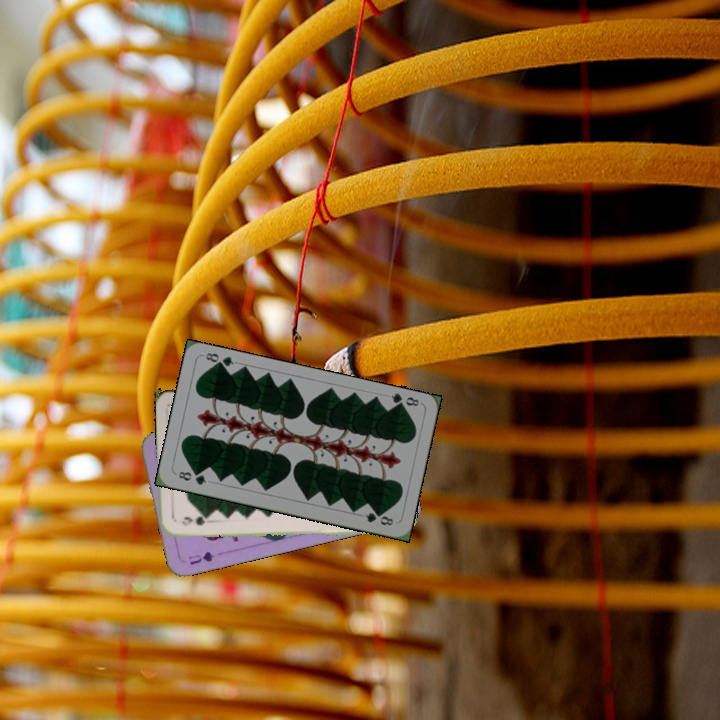G8: (387, 389, 422, 412), (174, 467, 209, 488)
G9: (178, 513, 212, 528)
GU: (184, 547, 217, 568)
